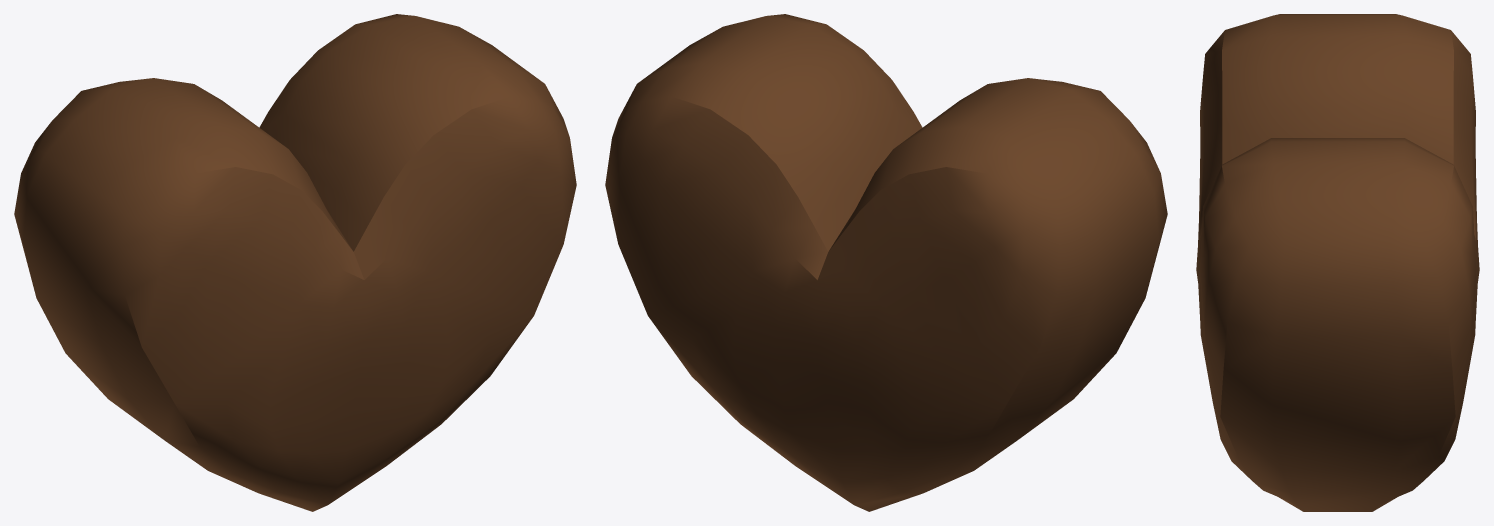
Rendered from cc0-heart-lod0.glb.
The picture shows the model from 3 angles, left to right: view 1: azimuth 30°, elevation 25°; view 2: azimuth 150°, elevation 25°; view 3: azimuth 270°, elevation 25°; orthographic projection.
Parts seen in each view (by area): view 1: part_0; view 2: part_0; view 3: part_0.
Part boxes in pixels (left/top/right/bottom): part_0: left=14, top=14, right=576, bottom=511; part_0: left=605, top=14, right=1167, bottom=511; part_0: left=1196, top=14, right=1479, bottom=511.
Bounding box in the file's own units: 1.48 × 1.24 × 0.7542.
